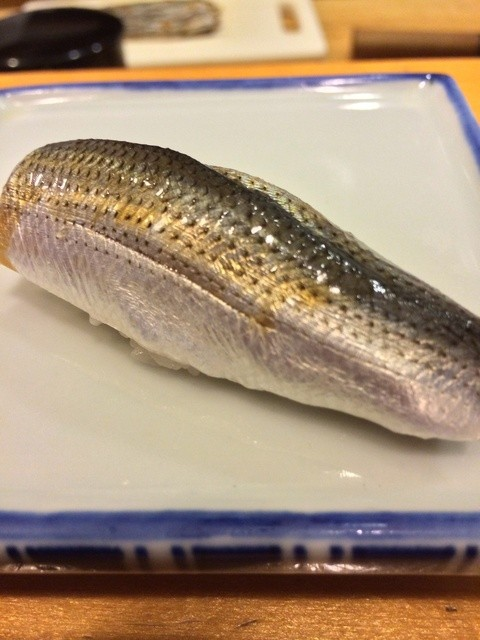spotted-shad: (2, 138, 479, 452)
